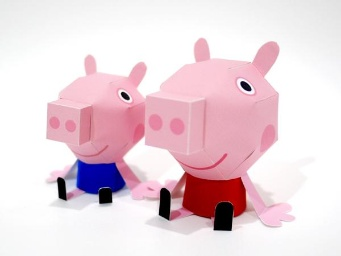Peppa: (142, 36, 301, 234)
